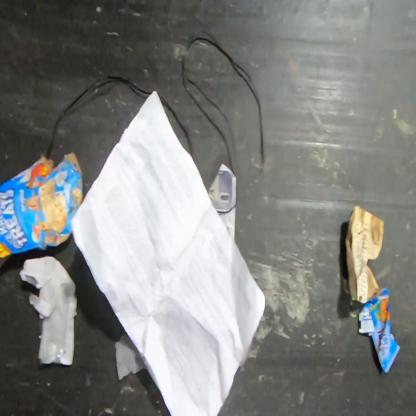cardboard: (0, 150, 84, 260)
